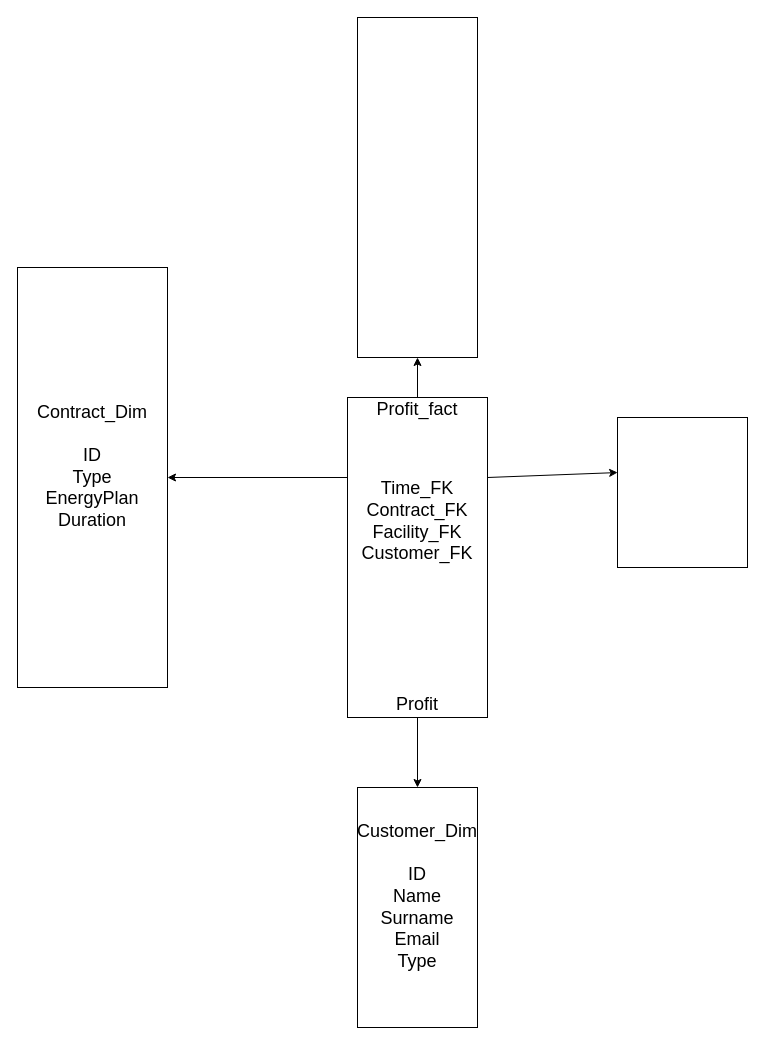
Some shapes in this 765 by 1045 pixel diagram are drawn without their labels. The shapes that lost their labels are listed below. From the top down, each one's centre as x and y in pixels, then its label:
(x=417, y=187): Time_Dim ID Day Month Year
(x=682, y=492): Facility_Dim ID Location Name
